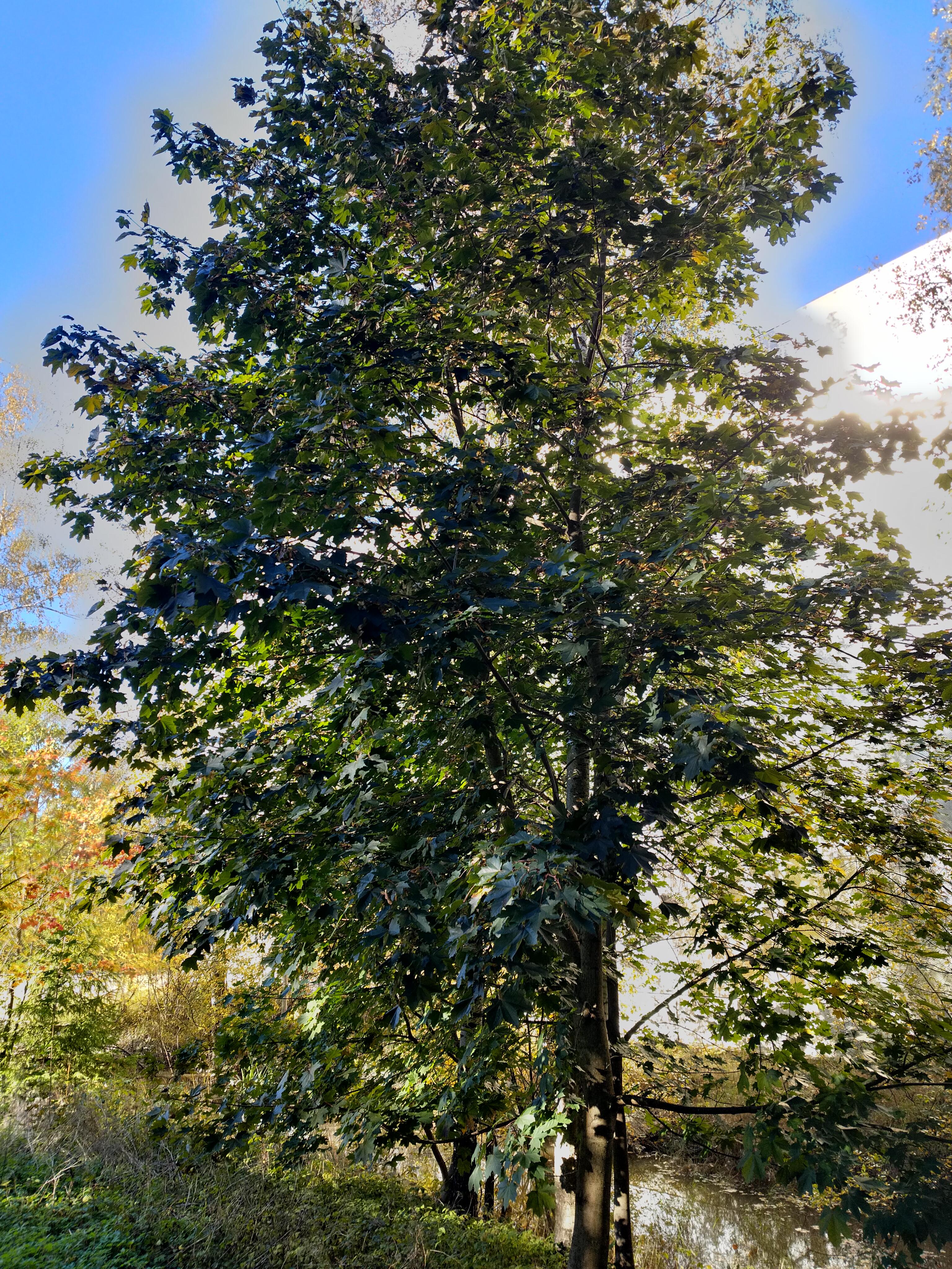Maple: (108, 1, 950, 1257)
